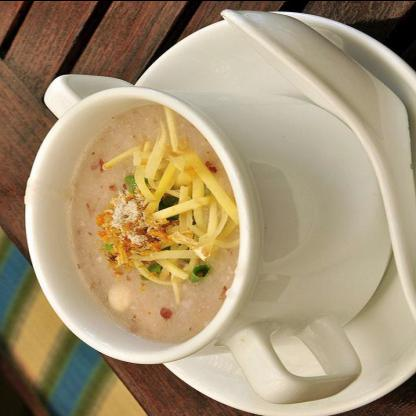Joke: (39, 81, 382, 362)
